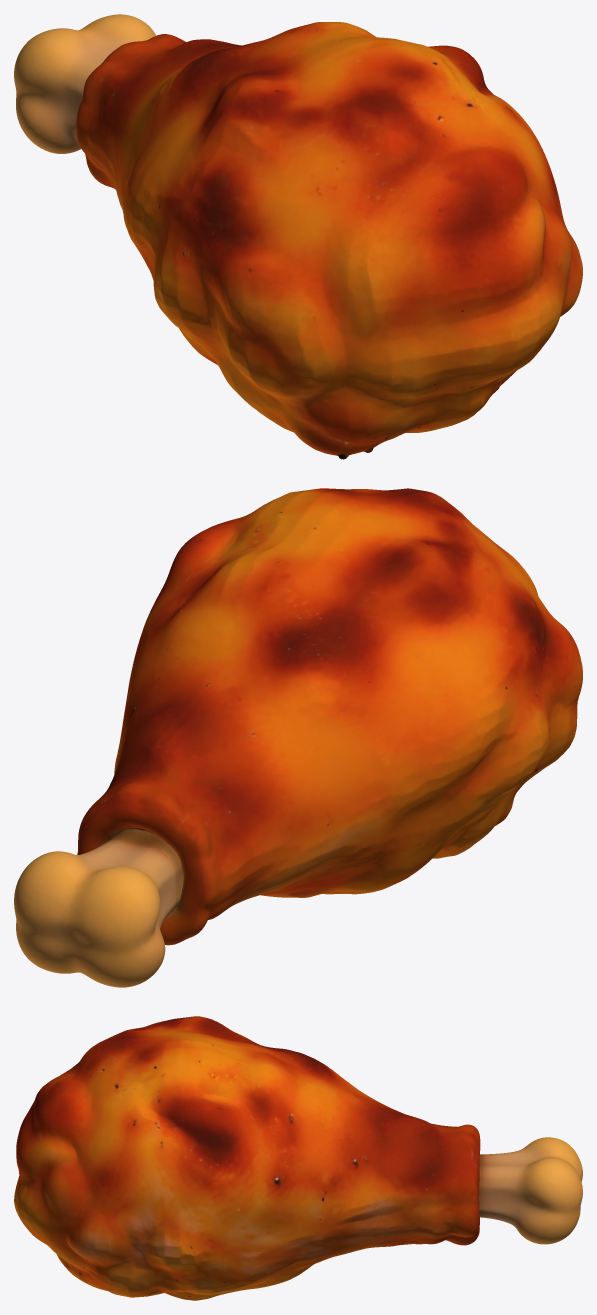
The model's file is tripo_convert_ba82aadd-3ccd-4941-8a2e-fab67f1f64ea.fbx.
The picture shows the model from 3 angles, top to bottom: view 1: azimuth 30°, elevation 25°; view 2: azimuth 150°, elevation 25°; view 3: azimuth 270°, elevation 25°; orthographic projection. The views are drawn at different scales.
Visible parts, largest first — view 1: tripo_node_ba82aadd; view 2: tripo_node_ba82aadd; view 3: tripo_node_ba82aadd.
Part boxes in pixels (x1=…): tripo_node_ba82aadd: x1=14, y1=14, x2=582, y2=459; tripo_node_ba82aadd: x1=14, y1=488, x2=582, y2=987; tripo_node_ba82aadd: x1=14, y1=1016, x2=582, y2=1300.
Bounding box in the file's own units: 0.5401 × 0.478 × 1.
